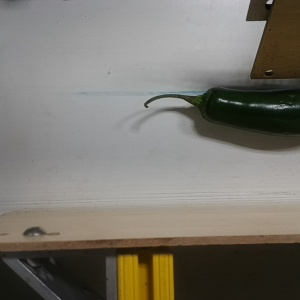Cut Point: (192, 86, 223, 122)
